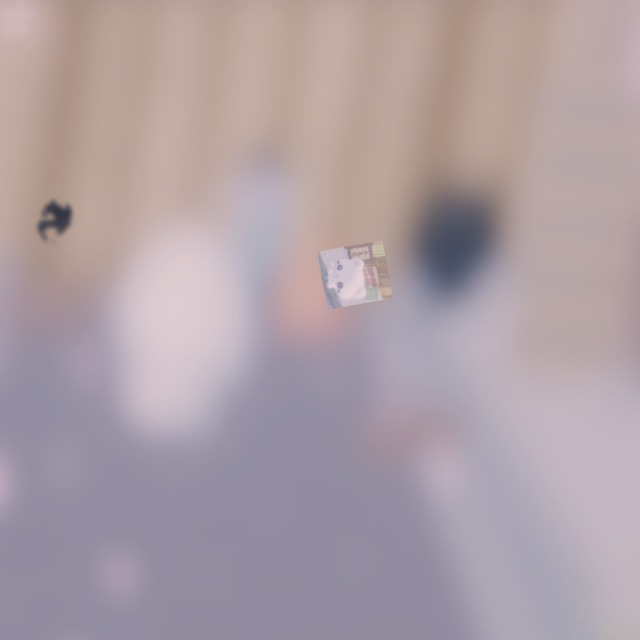urso_branco: (317, 240, 393, 310)
urso_preto: (22, 188, 88, 256)
